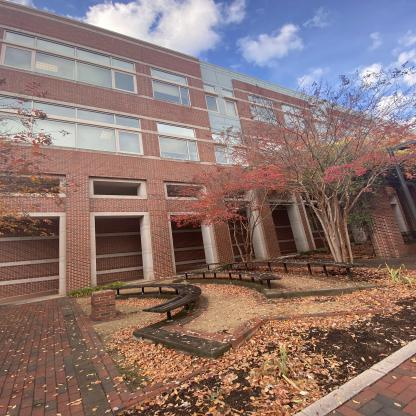EB-1: (0, 5, 415, 272)
